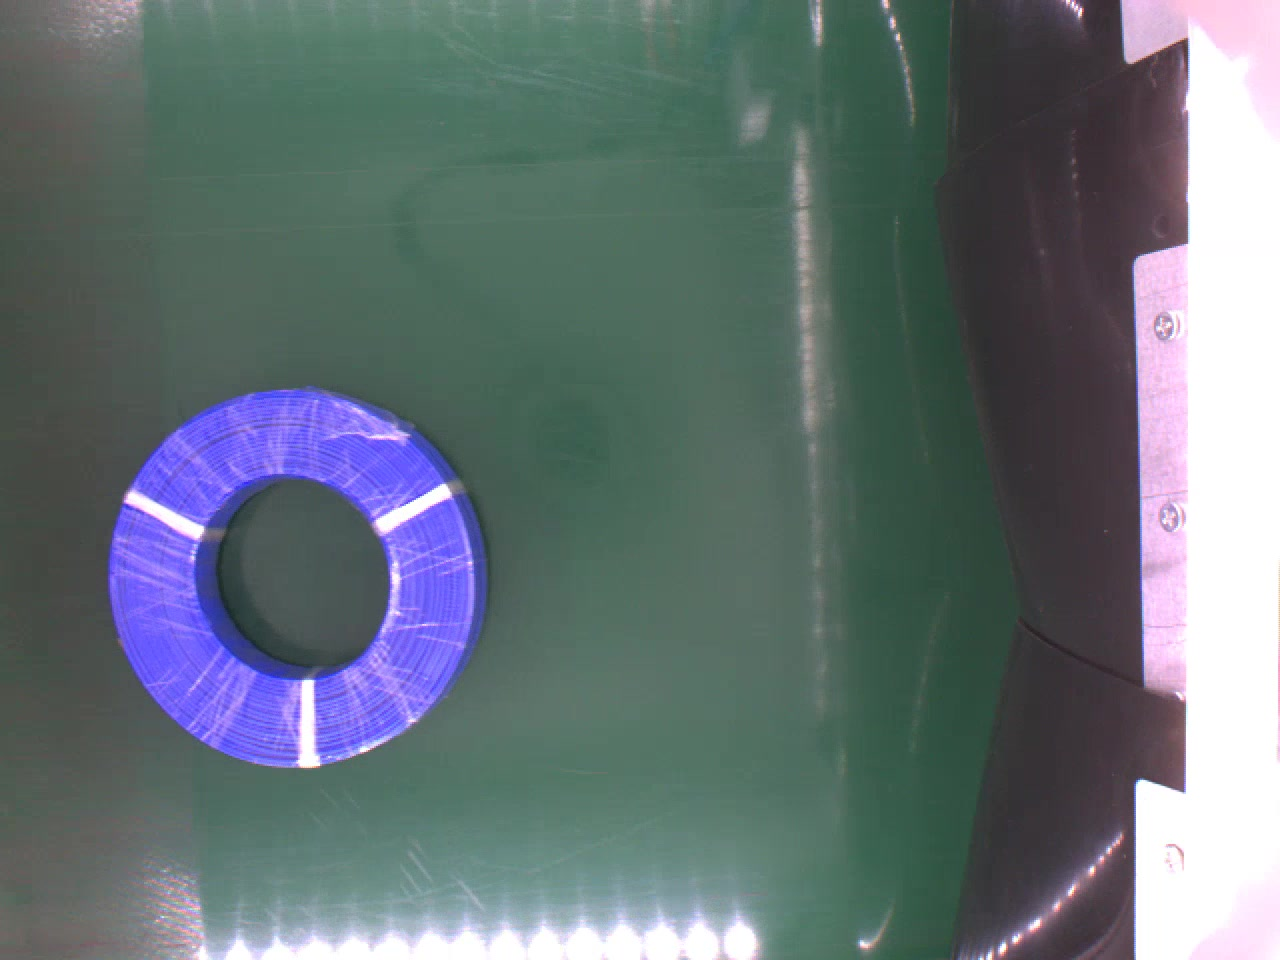blue: (106, 385, 489, 769)
